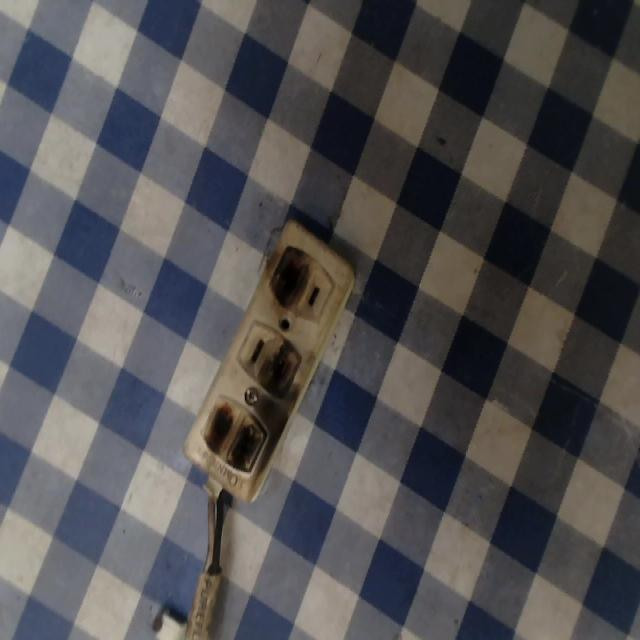-: (199, 404, 274, 481), (268, 239, 310, 313), (261, 334, 303, 406)
